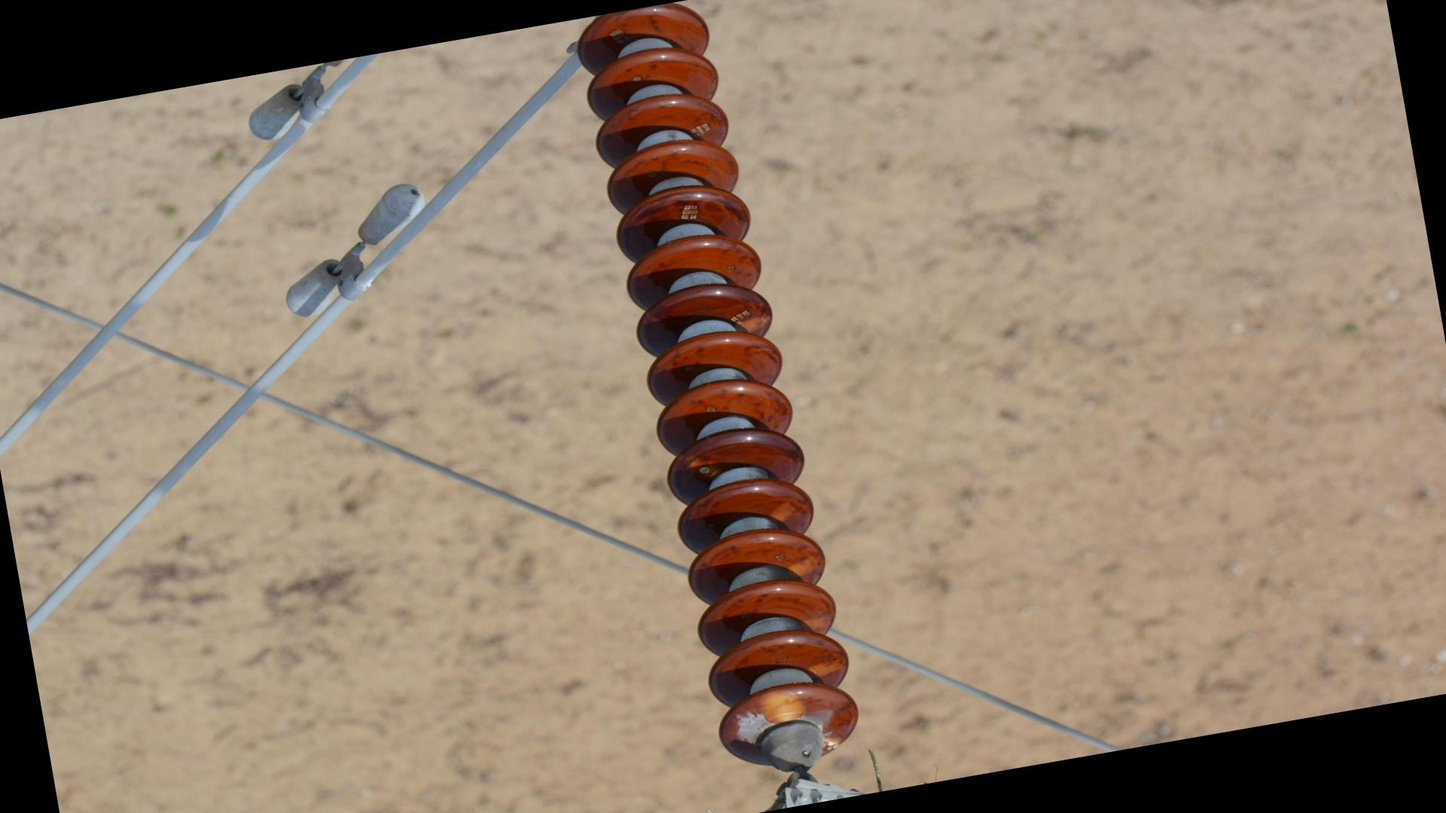damper: (262, 173, 449, 327), (225, 1, 408, 151)
